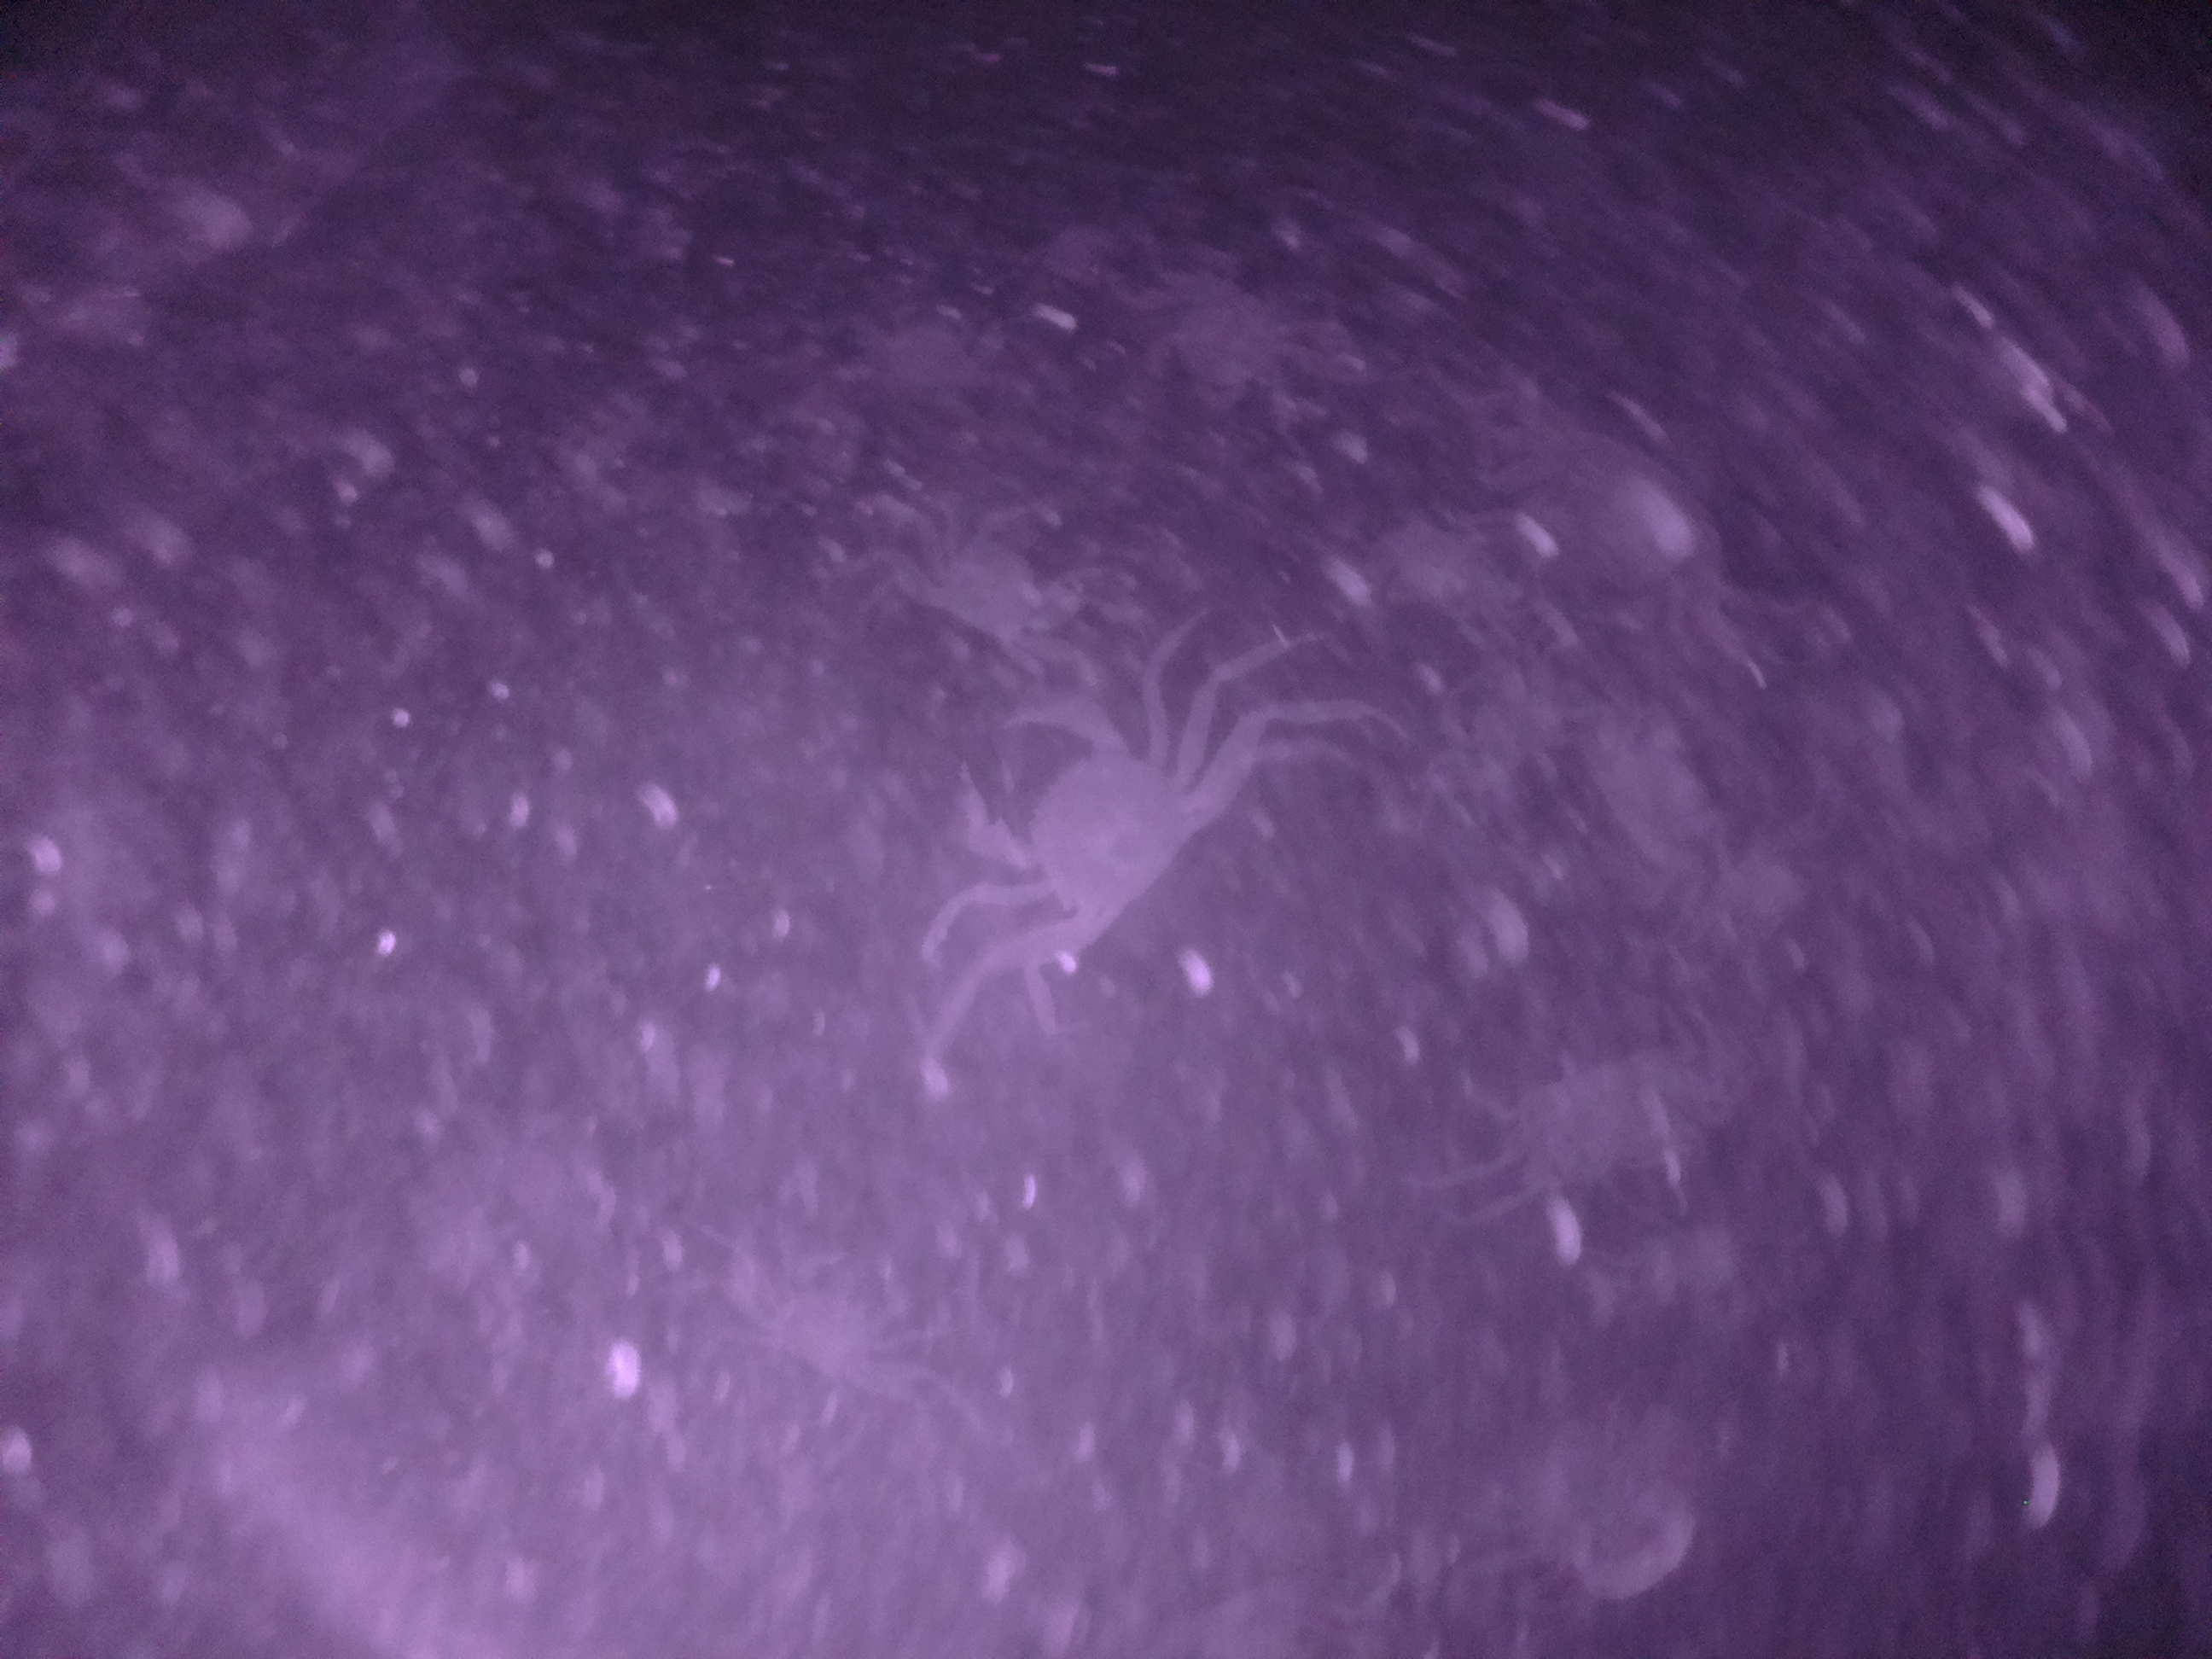Crab: (948, 683, 1212, 964), (899, 491, 1113, 680)
